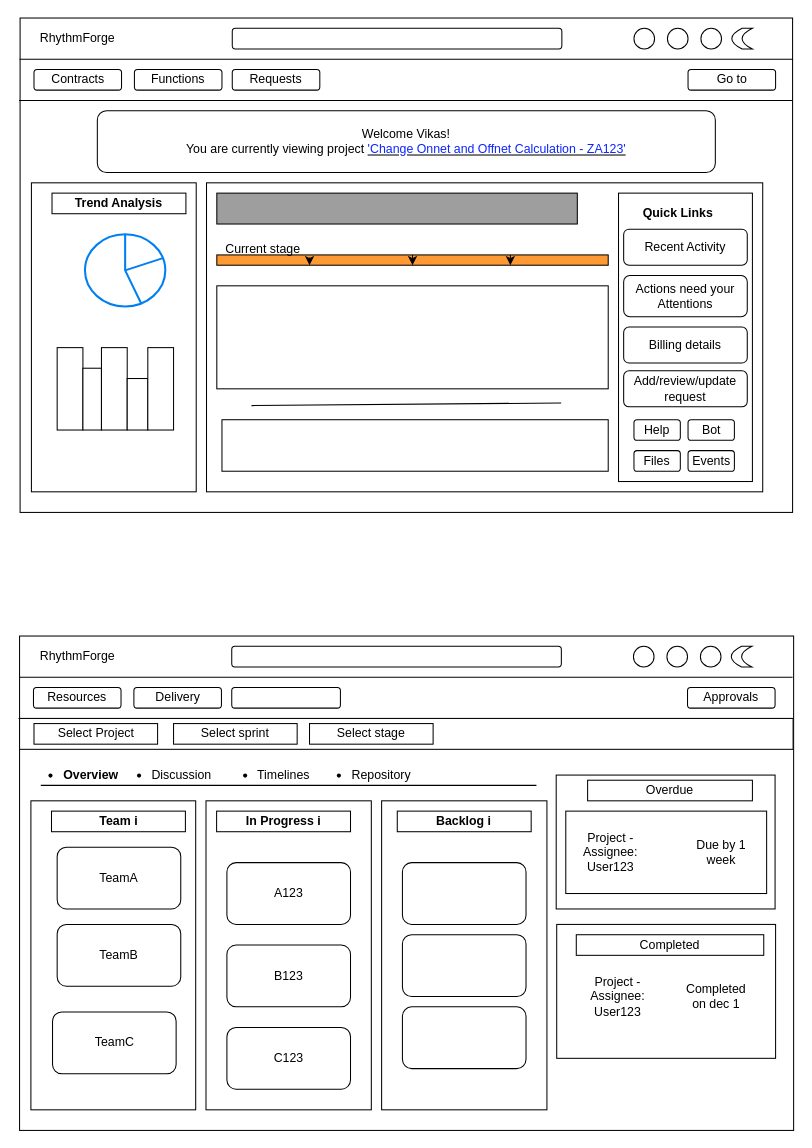
Some shapes in this 812 by 1148 pixel diagram are drawn without their labels. The centre of each missing label's shape, as x and y in pixels:
"'Change Onnet and Offnet Calculation - ZA123'" goes at (x=396, y=208).
"Comments" goes at (x=414, y=445).
"Emp Engagement" goes at (x=285, y=697).
"Request details" goes at (x=412, y=337).
